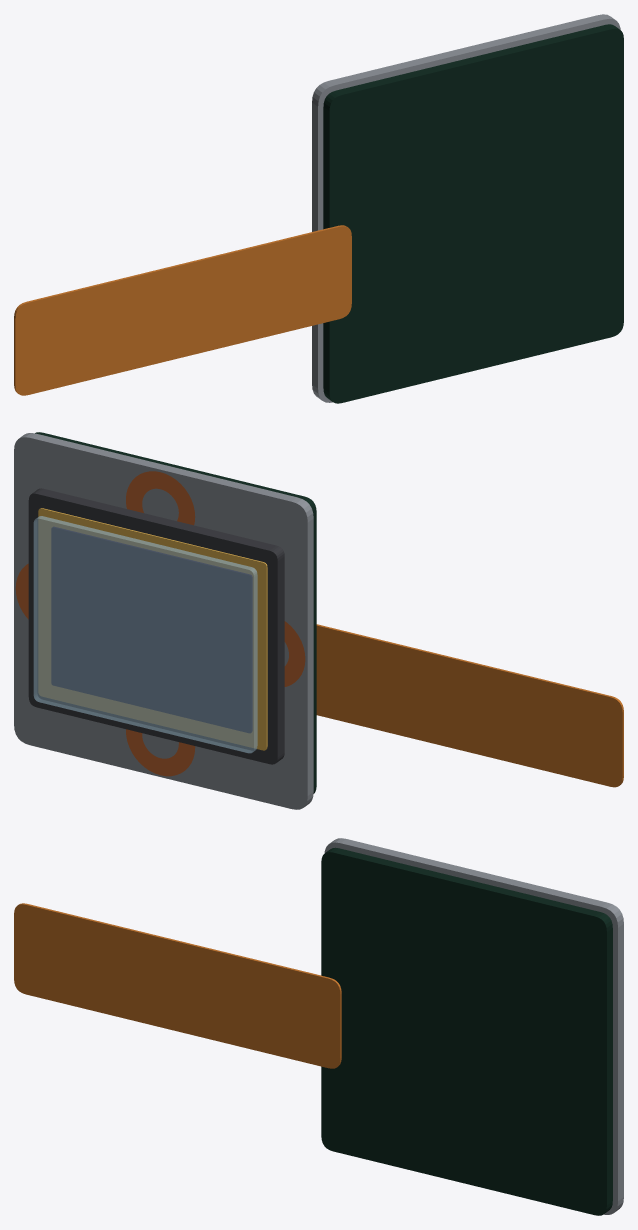
The model's file is main-camera-sensor.glb.
3 views of the same model, one above another, from view 1: azimuth 30°, elevation 25°; view 2: azimuth 150°, elevation 25°; view 3: azimuth 330°, elevation 25° (orthographic). The views are drawn at different scales.
Visible parts, largest first — view 1: main-camera-sensor; view 2: main-camera-sensor; view 3: main-camera-sensor.
Boxes of the visible parts, x1,y1,x2,y2 form: main-camera-sensor: (14, 14, 623, 403); main-camera-sensor: (14, 432, 623, 809); main-camera-sensor: (14, 838, 623, 1215).
Size of the model in its own units: 0.1947 by 0.096 by 0.0177.
